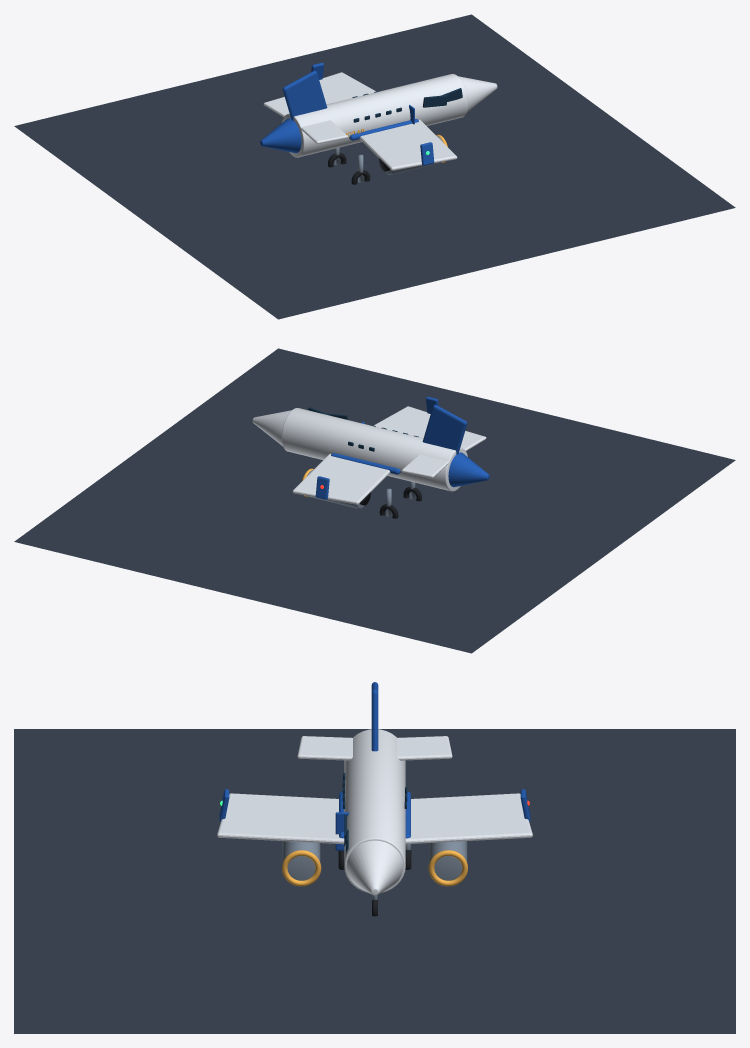
The model's file is airplane-model.glb.
3 views of the same model, one above another, from view 1: azimuth 30°, elevation 25°; view 2: azimuth 150°, elevation 25°; view 3: azimuth 270°, elevation 25° (orthographic). The views are drawn at different scales.
Visible parts, largest first — view 1: Studio Ground, Fuselage, Starboard Main Wing, Vertical Stabilizer, Port Main Wing, Tail Cone, Starboard Tailplane, Nose Cone; view 2: Studio Ground, Fuselage, Port Main Wing, Vertical Stabilizer, Starboard Main Wing, Tail Cone, Port Tailplane, Nose Cone; view 3: Studio Ground, Fuselage, Port Main Wing, Starboard Main Wing, Nose Cone, Port Tailplane, Starboard Tailplane, Port Engine, Starboard Engine, Port Intake Ring, Starboard Intake Ring.
Boxes of the visible parts, bbox=[...] form: Studio Ground: bbox=[14, 14, 735, 319]; Fuselage: bbox=[282, 74, 468, 157]; Starboard Main Wing: bbox=[359, 119, 457, 170]; Vertical Stabilizer: bbox=[282, 70, 327, 120]; Port Main Wing: bbox=[319, 72, 375, 104]; Tail Cone: bbox=[260, 118, 301, 153]; Starboard Tailplane: bbox=[301, 120, 347, 143]; Nose Cone: bbox=[458, 76, 497, 112]; Studio Ground: bbox=[14, 348, 735, 653]; Fuselage: bbox=[281, 408, 467, 491]; Port Main Wing: bbox=[292, 453, 390, 504]; Vertical Stabilizer: bbox=[422, 404, 467, 454]; Starboard Main Wing: bbox=[374, 406, 430, 438]; Tail Cone: bbox=[448, 452, 489, 487]; Port Tailplane: bbox=[402, 454, 448, 477]; Nose Cone: bbox=[252, 410, 291, 446]; Studio Ground: bbox=[14, 729, 735, 1033]; Fuselage: bbox=[344, 729, 405, 892]; Port Main Wing: bbox=[405, 793, 532, 844]; Starboard Main Wing: bbox=[217, 793, 344, 844]; Nose Cone: bbox=[346, 840, 403, 895]; Port Tailplane: bbox=[397, 736, 452, 760]; Starboard Tailplane: bbox=[297, 736, 352, 760]; Port Engine: bbox=[429, 841, 467, 880]; Starboard Engine: bbox=[282, 841, 320, 880]; Port Intake Ring: bbox=[428, 850, 467, 886]; Starboard Intake Ring: bbox=[282, 850, 321, 886].
Bounding box in the file's own units: 30 × 7.38 × 30.
